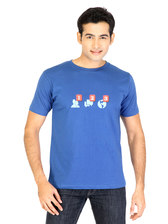clothoes: (32, 54, 144, 193)
